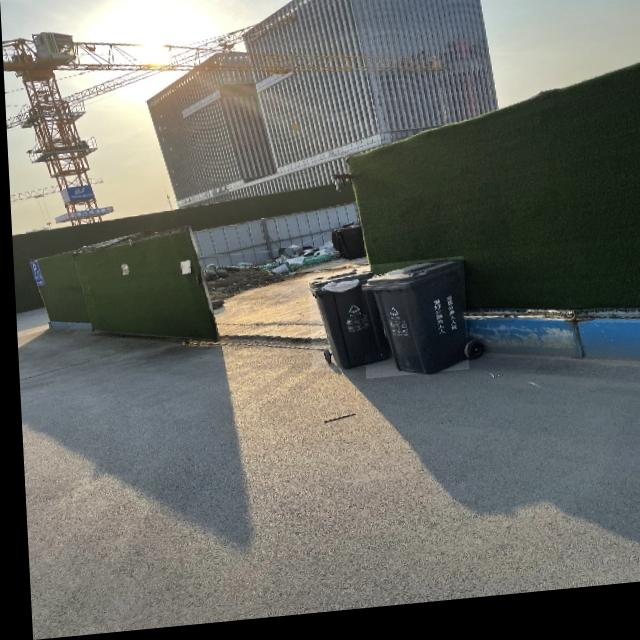garbage_bin: (357, 265, 465, 386), (331, 227, 362, 267)
overflow: (304, 274, 388, 378)
